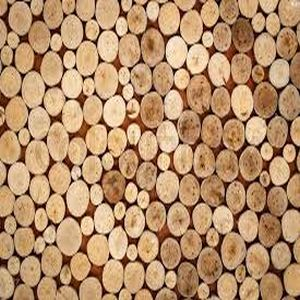log: (186, 75, 214, 117), (140, 28, 167, 68), (46, 119, 70, 164), (55, 218, 84, 255), (252, 82, 280, 120), (21, 69, 47, 109), (139, 92, 165, 131), (221, 232, 246, 272), (196, 247, 223, 284), (257, 212, 283, 250), (250, 33, 278, 68), (60, 14, 87, 50), (175, 110, 202, 146), (23, 139, 50, 175), (117, 32, 143, 69), (222, 116, 247, 154), (93, 62, 119, 98), (244, 243, 270, 279), (75, 40, 99, 78), (65, 180, 89, 218), (7, 1, 33, 36), (27, 19, 53, 54), (239, 145, 262, 184), (214, 148, 241, 181), (154, 171, 181, 204), (175, 261, 199, 298), (229, 18, 255, 52), (95, 30, 121, 64), (152, 62, 177, 97), (39, 51, 64, 86), (3, 97, 28, 132), (231, 84, 254, 122), (184, 42, 210, 75), (277, 84, 300, 121), (61, 100, 84, 137), (177, 174, 202, 208), (137, 230, 162, 264), (166, 202, 191, 236), (157, 1, 181, 36), (208, 51, 232, 86), (158, 237, 182, 272), (128, 63, 154, 95), (201, 176, 226, 209), (102, 172, 127, 205), (179, 229, 204, 262), (164, 36, 188, 70), (266, 116, 290, 150), (6, 162, 30, 196), (85, 234, 109, 268), (193, 142, 216, 177), (236, 209, 259, 244), (103, 96, 127, 129), (201, 114, 223, 150), (144, 201, 168, 234), (180, 10, 203, 44), (211, 85, 234, 119), (102, 259, 125, 293), (60, 69, 85, 100), (28, 106, 50, 141), (276, 27, 299, 60), (124, 206, 147, 239), (108, 224, 129, 260), (94, 1, 120, 30), (156, 120, 180, 151), (170, 143, 194, 174), (14, 42, 36, 75), (13, 195, 35, 228), (123, 259, 145, 292), (268, 240, 292, 270), (225, 181, 246, 215), (269, 57, 291, 89), (48, 162, 70, 194), (14, 226, 36, 258), (93, 202, 114, 235), (86, 126, 109, 156), (135, 162, 158, 192), (244, 181, 267, 211), (212, 204, 235, 234), (44, 86, 66, 117), (118, 149, 140, 180), (70, 251, 92, 282), (19, 255, 41, 286), (1, 131, 21, 165), (231, 53, 252, 85), (246, 115, 267, 147), (107, 127, 128, 159), (192, 204, 213, 236), (41, 247, 64, 276), (282, 261, 300, 298), (127, 5, 149, 35), (259, 273, 283, 300), (267, 186, 287, 218), (81, 155, 103, 184), (29, 175, 50, 205), (212, 23, 232, 54), (139, 131, 159, 162), (269, 156, 290, 185), (45, 194, 66, 223), (281, 207, 300, 239), (83, 95, 103, 125), (164, 89, 184, 119), (144, 261, 164, 291), (44, 1, 64, 30), (68, 137, 88, 166), (2, 67, 20, 99), (79, 276, 103, 300), (215, 274, 236, 300), (238, 276, 259, 300), (37, 277, 58, 300), (286, 173, 299, 210), (219, 1, 239, 25), (120, 180, 139, 205), (83, 18, 102, 42), (202, 1, 219, 27), (47, 32, 66, 55), (173, 68, 191, 92), (75, 1, 96, 21), (1, 233, 15, 262), (89, 182, 105, 207), (125, 123, 141, 147), (34, 208, 49, 232), (162, 269, 179, 290), (1, 187, 13, 216), (61, 50, 78, 70), (251, 11, 266, 33), (266, 13, 281, 35), (205, 228, 222, 247), (5, 30, 21, 50), (145, 1, 160, 22), (17, 127, 32, 148), (112, 202, 127, 223), (114, 16, 128, 38), (251, 65, 267, 84), (156, 152, 171, 172), (282, 143, 297, 163), (136, 190, 151, 210), (125, 242, 140, 262), (127, 98, 140, 121), (1, 46, 15, 67), (101, 151, 115, 172), (59, 266, 73, 287), (7, 256, 21, 277), (118, 65, 131, 87), (81, 215, 94, 237), (42, 227, 57, 246), (81, 77, 95, 96), (121, 83, 134, 103), (33, 235, 45, 256), (260, 142, 273, 161), (200, 31, 214, 48), (4, 216, 17, 234), (69, 165, 82, 182), (61, 1, 75, 15), (30, 1, 43, 16), (260, 171, 271, 187)
